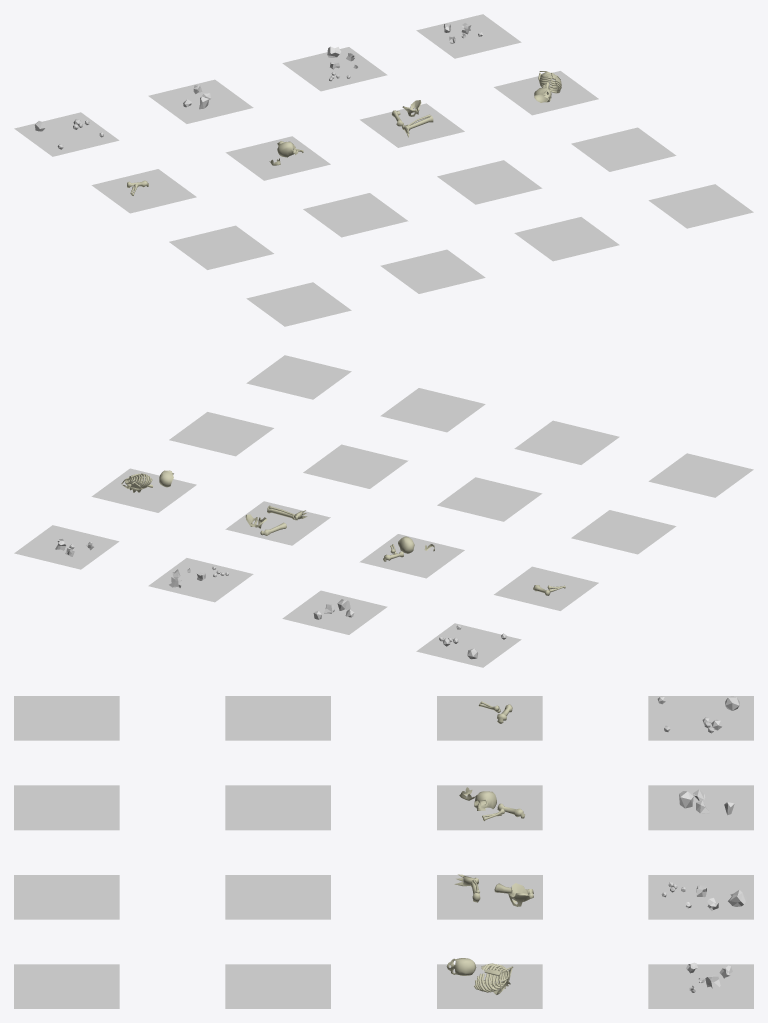
File: cave_floor_decor.fbx
3 views of the same model, one above another, from view 1: azimuth 30°, elevation 25°; view 2: azimuth 150°, elevation 25°; view 3: azimuth 270°, elevation 25° (orthographic). The views are drawn at different scales.
Visible parts, largest first — view 1: cave_floor.016, cave_floor.007, cave_floor.003, cave_floor.008, cave_floor.001, cave_floor.005, cave_floor.012, cave_floor.013, cave_floor.002, cave_floor.010, cave_floor.015, cave_floor.009 (+4 smaller); view 2: cave_floor.016, cave_floor.008, cave_floor.001, cave_floor.007, cave_floor.009, cave_floor.003, cave_floor.006, cave_floor.011, cave_floor.013, cave_floor.014, cave_floor.005, cave_floor.012 (+4 smaller); view 3: cave_floor.016, cave_floor.008, cave_floor.002, cave_floor.006, cave_floor.010, cave_floor.014, cave_floor.007, cave_floor.001, cave_floor.003, cave_floor.005, cave_floor.009, cave_floor.011 (+4 smaller).
Boxes of the visible parts, <box> form: cave_floor.016: <box>443,23,753,228</box>; cave_floor.007: <box>360,100,464,147</box>; cave_floor.003: <box>282,46,387,91</box>; cave_floor.008: <box>494,71,598,115</box>; cave_floor.001: <box>14,112,119,156</box>; cave_floor.005: <box>91,169,196,213</box>; cave_floor.012: <box>571,127,676,171</box>; cave_floor.013: <box>246,282,351,326</box>; cave_floor.002: <box>148,79,253,123</box>; cave_floor.010: <box>303,193,408,237</box>; cave_floor.015: <box>514,217,619,261</box>; cave_floor.009: <box>169,225,273,269</box>; cave_floor.016: <box>55,355,351,556</box>; cave_floor.008: <box>91,468,196,512</box>; cave_floor.001: <box>416,623,521,667</box>; cave_floor.007: <box>225,501,330,545</box>; cave_floor.009: <box>571,510,676,554</box>; cave_floor.003: <box>148,558,253,602</box>; cave_floor.006: <box>359,534,464,578</box>; cave_floor.011: <box>303,444,408,488</box>; cave_floor.013: <box>648,453,753,497</box>; cave_floor.014: <box>514,420,619,464</box>; cave_floor.005: <box>494,566,598,610</box>; cave_floor.012: <box>169,412,273,456</box>; cave_floor.016: <box>14,962,732,1008</box>; cave_floor.008: <box>437,958,542,1008</box>; cave_floor.002: <box>648,785,753,830</box>; cave_floor.006: <box>437,785,542,830</box>; cave_floor.010: <box>225,785,330,830</box>; cave_floor.014: <box>14,785,119,830</box>; cave_floor.007: <box>437,874,542,919</box>; cave_floor.001: <box>648,696,753,740</box>; cave_floor.003: <box>648,875,753,919</box>; cave_floor.005: <box>437,696,542,740</box>; cave_floor.009: <box>225,696,330,740</box>; cave_floor.011: <box>225,875,330,919</box>.
Size of the model in its own units: 1400 by 53.58 by 1400.
